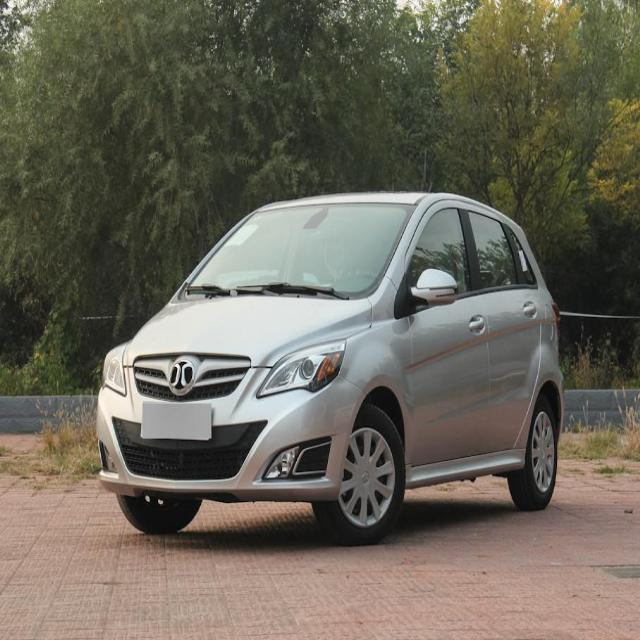back_left_side_light: (550, 300, 560, 342)
door: (462, 204, 544, 461)
front_bumper: (95, 361, 367, 503)
front_glass: (184, 202, 418, 300)
front_left_side_door: (400, 198, 492, 470)
front_left_side_light: (252, 336, 350, 399)
front_left_side_mirror: (404, 266, 459, 313)
front_right_side_light: (102, 340, 130, 399)
wheel: (314, 405, 406, 540), (506, 396, 560, 509), (117, 493, 203, 532)
